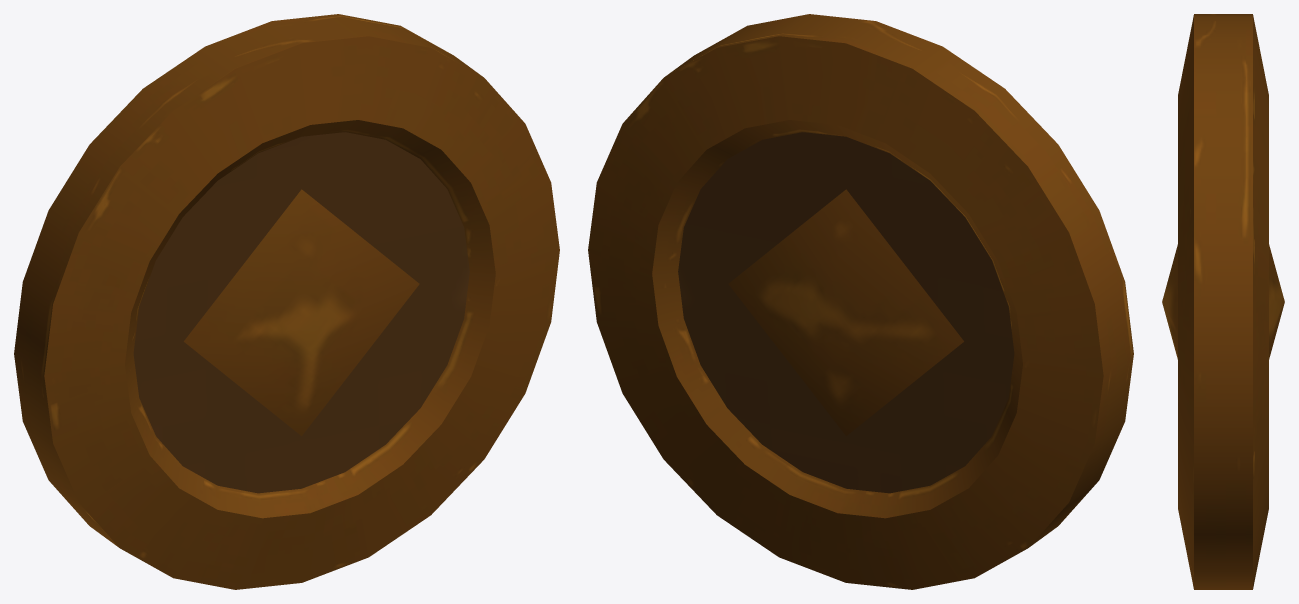
Rendered from Coin.gltf.
3 renders of one model, left to right at view 1: azimuth 30°, elevation 25°; view 2: azimuth 150°, elevation 25°; view 3: azimuth 270°, elevation 25°, orthographic. The views are drawn at different scales.
Parts seen in each view (by area): view 1: Coin; view 2: Coin; view 3: Coin.
Boxes of the visible parts, box(x1,y1,x2,y2) form: Coin: box(14, 14, 559, 589); Coin: box(588, 14, 1133, 589); Coin: box(1162, 14, 1284, 589).
Bounding box in the file's own units: 0.0683 × 0.0683 × 0.0145.
Materials: 1 (1 with a texture image).
